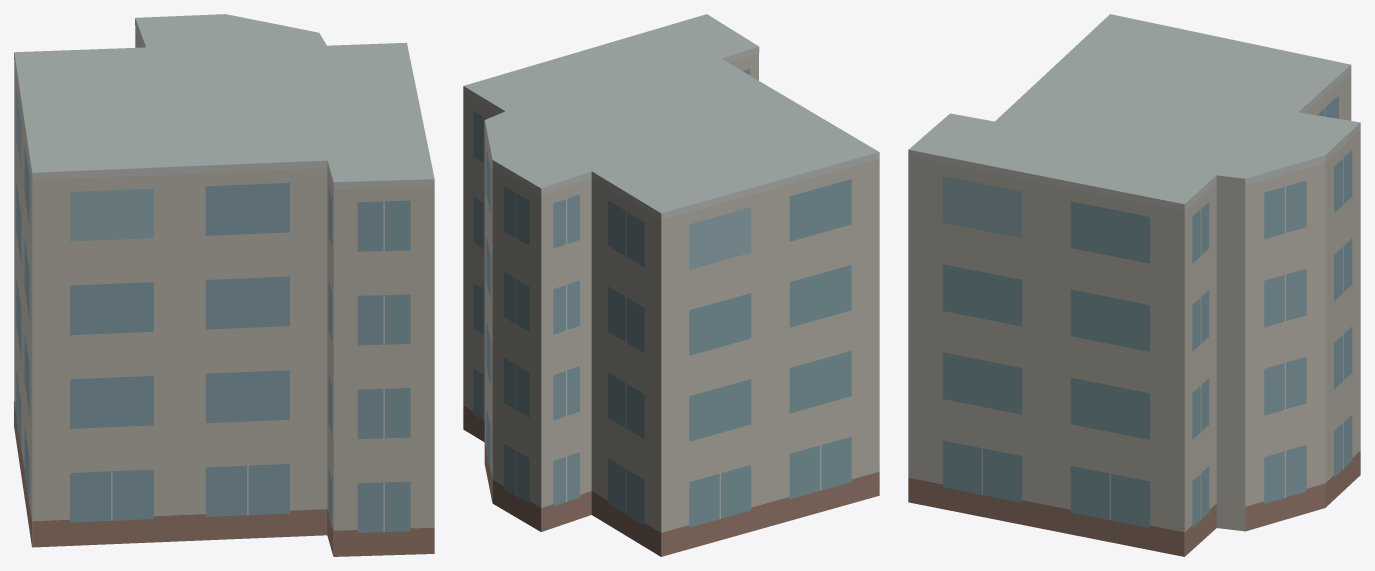
File: survey-upis-32882833.glb
3 renders of one model, left to right at view 1: azimuth 30°, elevation 25°; view 2: azimuth 150°, elevation 25°; view 3: azimuth 270°, elevation 25°, orthographic. The views are drawn at different scales.
Parts seen in each view (by area): view 1: survey-upis-32882833.tmp; view 2: survey-upis-32882833.tmp; view 3: survey-upis-32882833.tmp.
Boxes of the visible parts, box(x1,y1,x2,y2) form: survey-upis-32882833.tmp: box(14, 14, 434, 556); survey-upis-32882833.tmp: box(463, 14, 879, 556); survey-upis-32882833.tmp: box(908, 14, 1360, 556).
Size of the model in its own units: 14.13 by 12.2 by 14.19.
